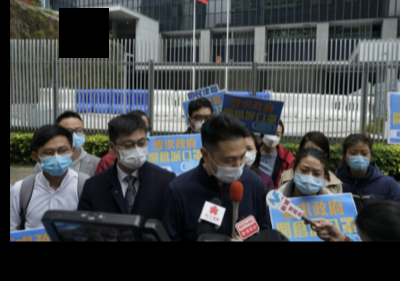with_mask: (212, 148, 246, 185), (39, 144, 73, 176), (117, 135, 149, 168), (293, 163, 325, 195), (60, 125, 84, 154), (347, 146, 371, 170), (191, 111, 211, 132), (263, 129, 281, 149), (244, 143, 257, 167)
